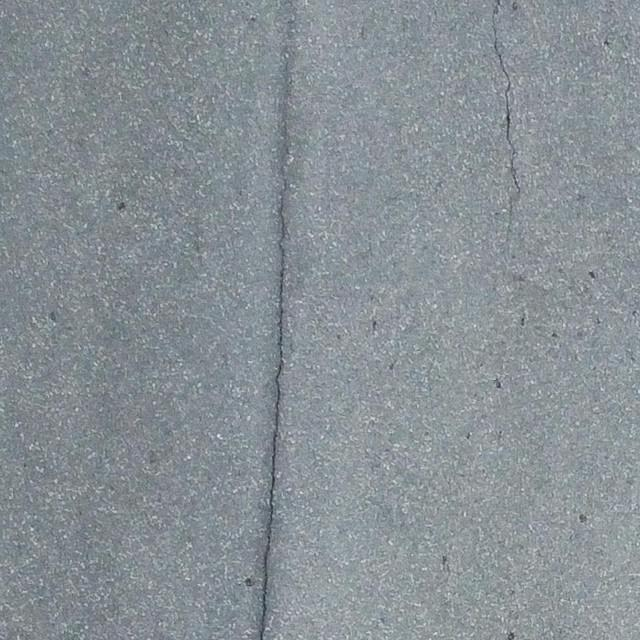LongitudinalCrack: (257, 56, 294, 638), (488, 6, 523, 198)
